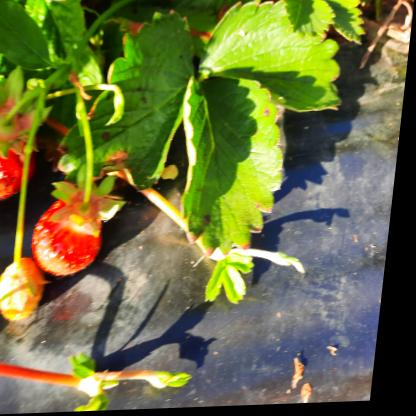ripe: (40, 199, 108, 274), (0, 123, 30, 203)
unripe: (3, 268, 43, 314)
